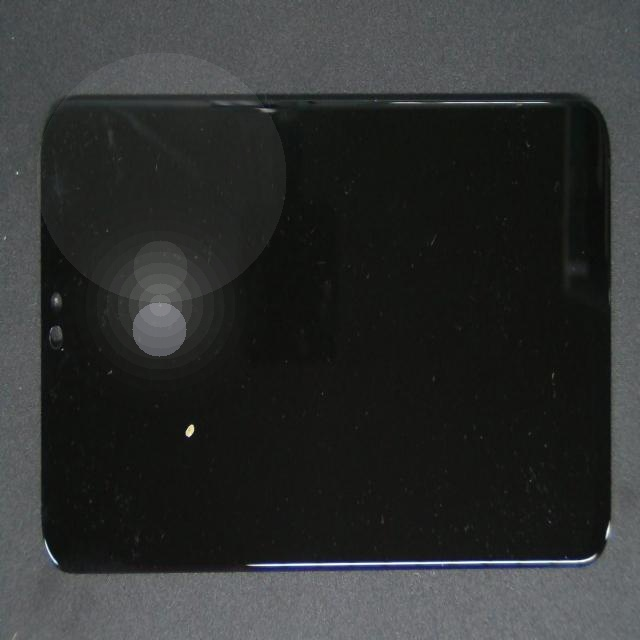stain: (128, 243, 306, 630)
